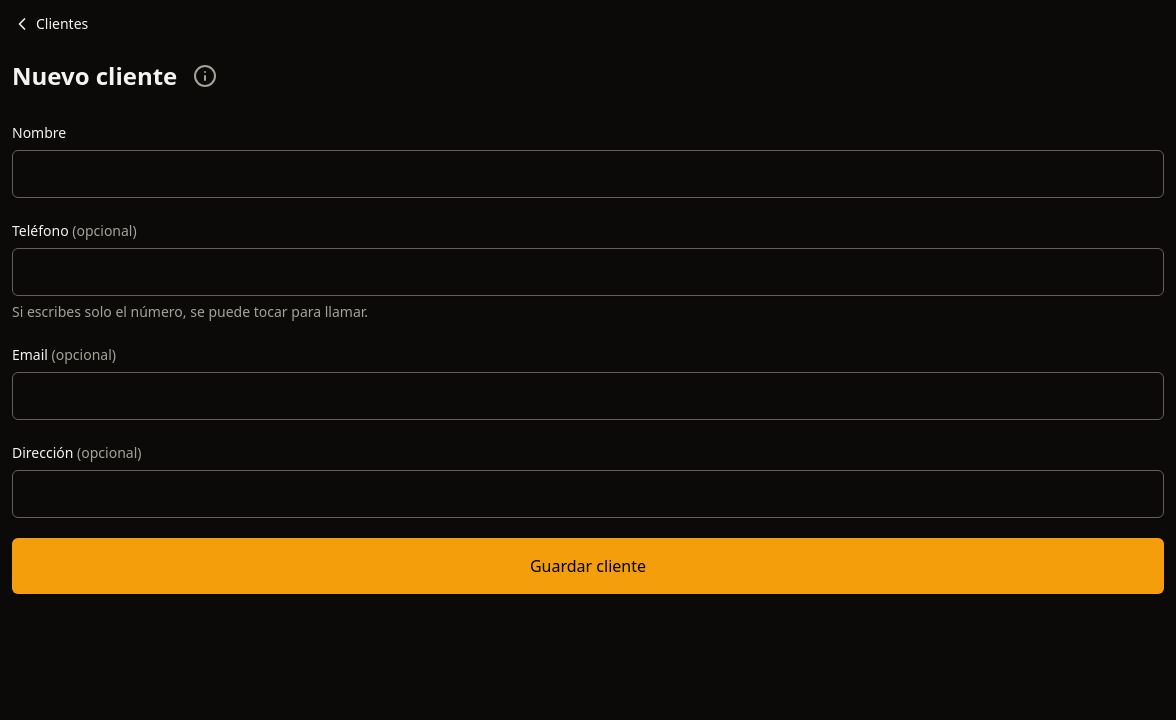
Test: alta de cliente: validación › nombre vacío: error en el nombre, foco ahí y NO se manda nada
The width and height of the screenshot is (1176, 720).
Click the button "Guardar cliente" at (588, 566), box [12,538,1164,594]
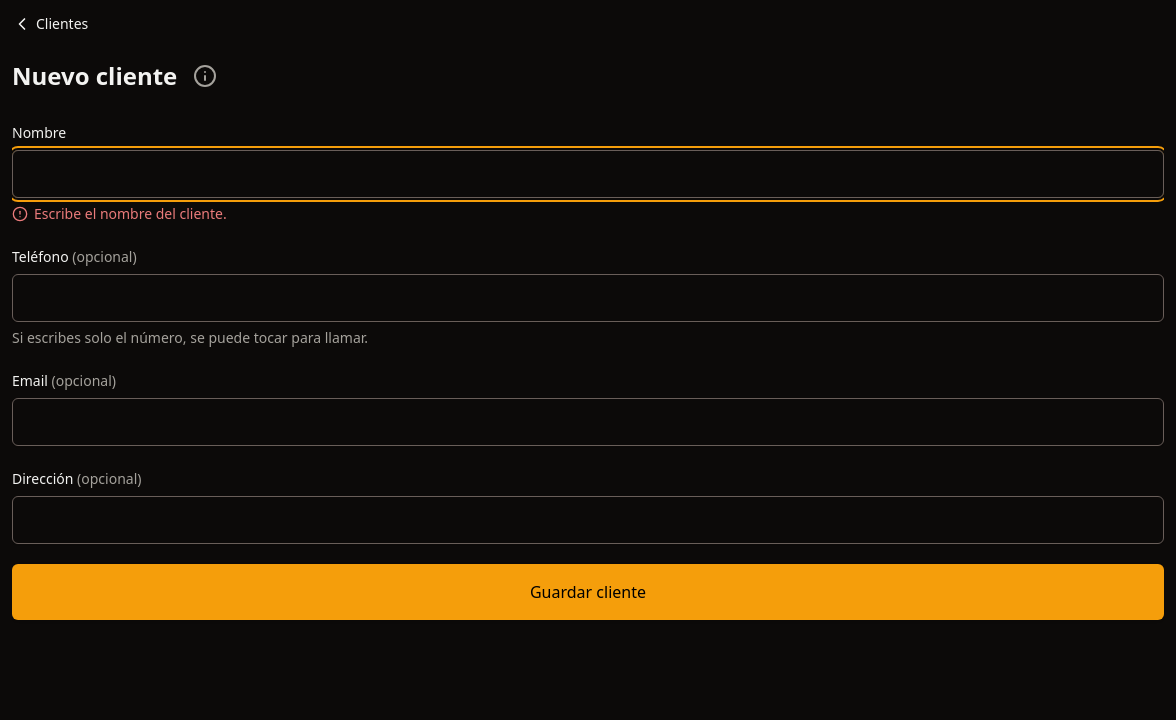
Now the text "Escribe el nombre del cliente." is shown, box [34,204,227,224]
